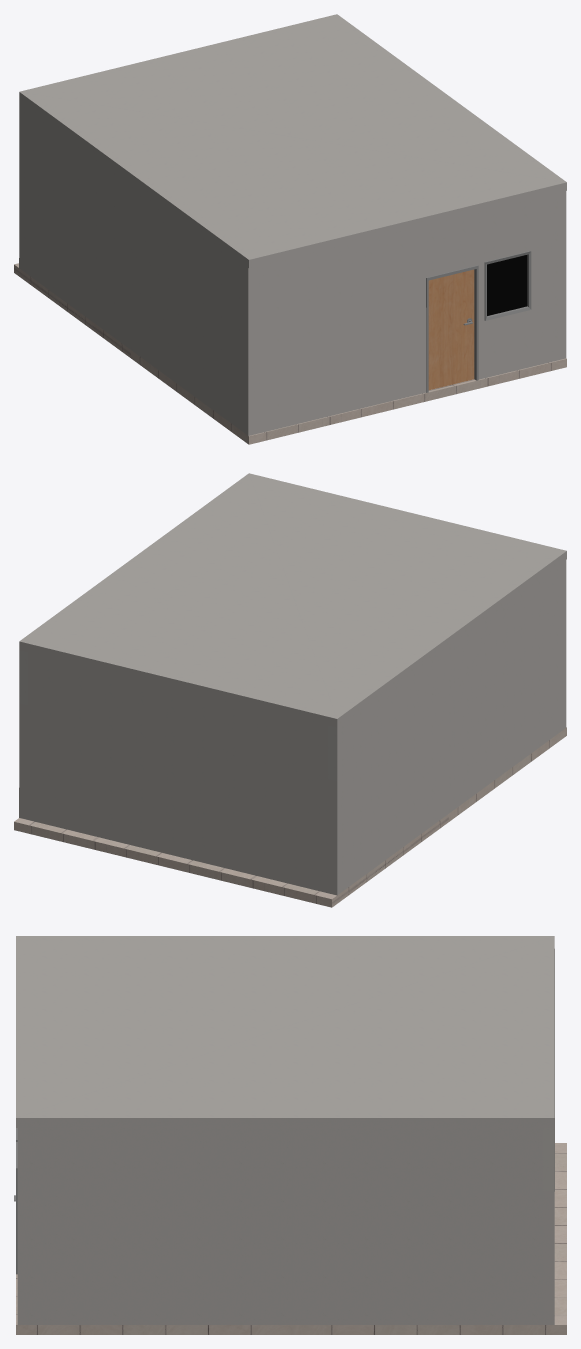
The model's file is Production Room.fbx.
3 renders of one model, top to bottom at view 1: azimuth 30°, elevation 25°; view 2: azimuth 150°, elevation 25°; view 3: azimuth 270°, elevation 25°, orthographic. The views are drawn at different scales.
Parts seen in each view (by area): view 1: Production Room, Production Room.006; view 2: Production Room; view 3: Production Room.
Part boxes in pixels (box(x1,y1,x2,y2)): Production Room: box(14, 14, 566, 444); Production Room.006: box(428, 269, 474, 390); Production Room: box(14, 473, 566, 907); Production Room: box(16, 936, 566, 1334).
Bounding box in the file's own units: 653 × 363 × 839.
